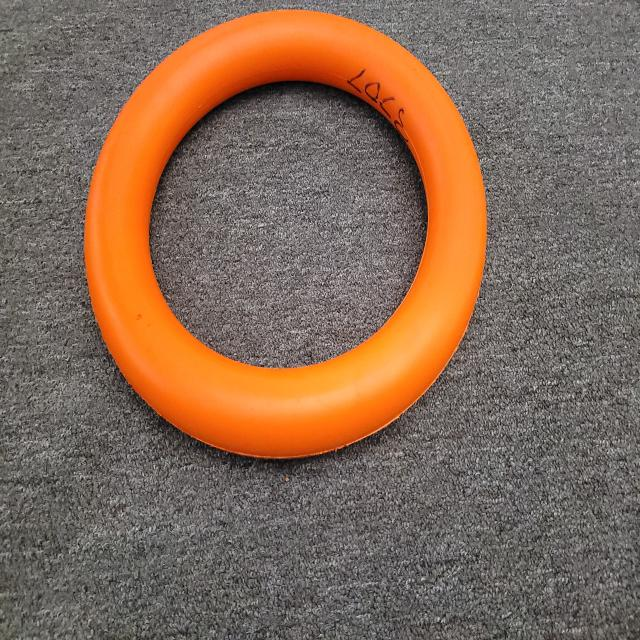note: (66, 8, 522, 492)
